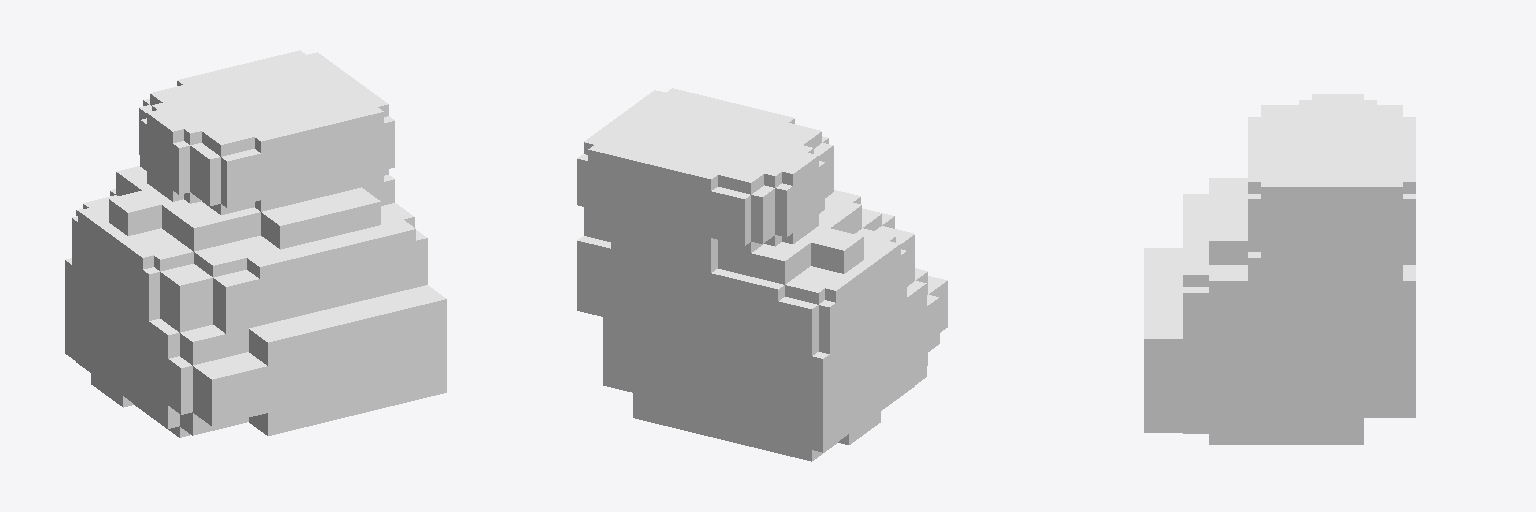
File: piedrita.obj
3 views of the same model, side by side, from view 1: azimuth 30°, elevation 25°; view 2: azimuth 150°, elevation 25°; view 3: azimuth 270°, elevation 25° (orthographic).
Visible parts, largest first — view 1: object 1; view 2: object 1; view 3: object 1.
Boxes of the visible parts, x1=… form: object 1: x1=65, y1=50, x2=446, y2=437; object 1: x1=577, y1=88, x2=947, y2=461; object 1: x1=1144, y1=94, x2=1415, y2=444.
Size of the model in its own units: 2.2 by 2.2 by 2.1.